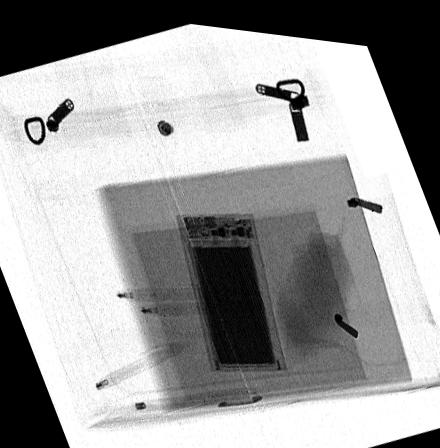Powerbank: (175, 205, 287, 366)
